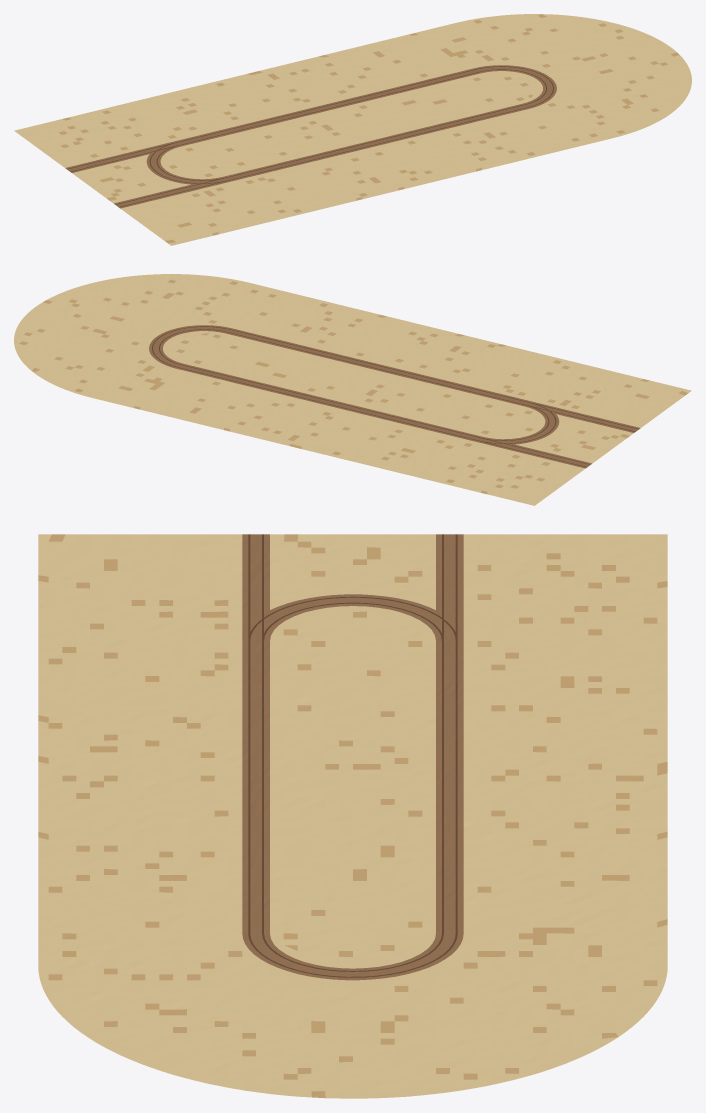
The model's file is SM_ImpFloor.fbx.
3 views of the same model, one above another, from view 1: azimuth 30°, elevation 25°; view 2: azimuth 150°, elevation 25°; view 3: azimuth 270°, elevation 25° (orthographic). The views are drawn at different scales.
Parts seen in each view (by area): view 1: SM_ImpFloor; view 2: SM_ImpFloor; view 3: SM_ImpFloor.
Boxes of the visible parts, bbox=[...] form: SM_ImpFloor: bbox=[14, 14, 691, 245]; SM_ImpFloor: bbox=[14, 274, 691, 505]; SM_ImpFloor: bbox=[38, 534, 667, 1098].
Size of the model in its own units: 193 by 91 by 0.024.
